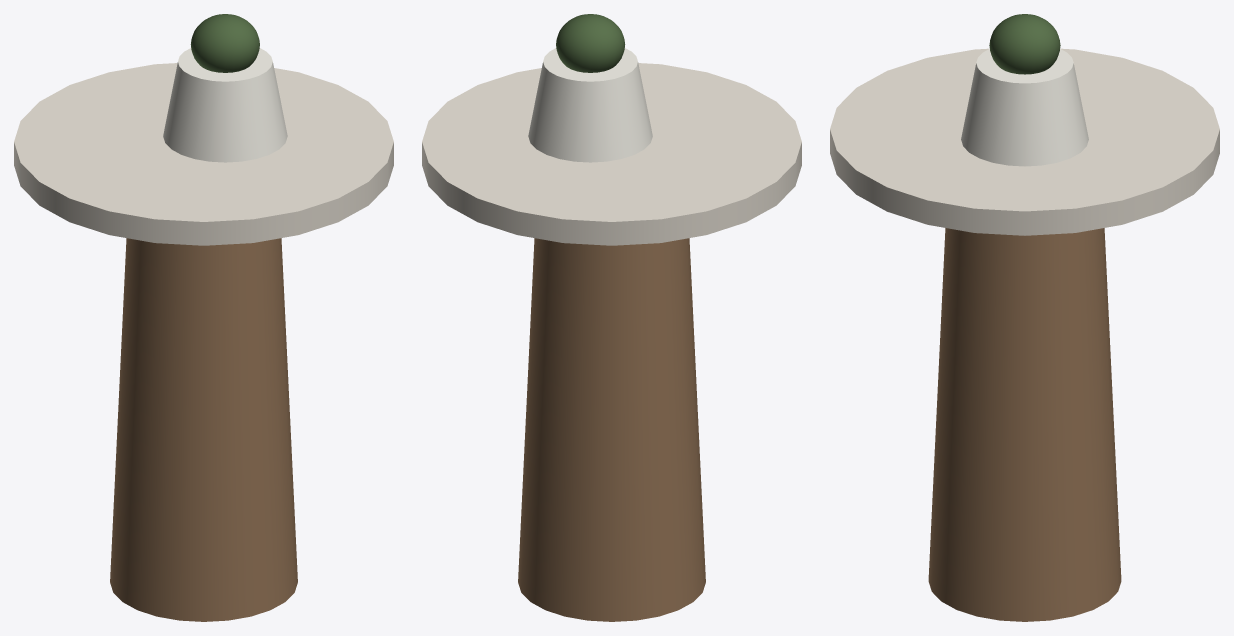
File: sideTable.glb
3 renders of one model, left to right at view 1: azimuth 30°, elevation 25°; view 2: azimuth 150°, elevation 25°; view 3: azimuth 270°, elevation 25°, orthographic. The views are drawn at different scales.
Visible parts, largest first — view 1: sideTable-part-2, sideTable-part-1, sideTable-part-3, sideTable-part-4; view 2: sideTable-part-2, sideTable-part-1, sideTable-part-3, sideTable-part-4; view 3: sideTable-part-2, sideTable-part-1, sideTable-part-3, sideTable-part-4.
Part boxes in pixels (x1,y1,x2,y2): sideTable-part-2: [110, 238, 297, 621]; sideTable-part-1: [14, 63, 393, 245]; sideTable-part-3: [163, 48, 287, 162]; sideTable-part-4: [190, 14, 259, 72]; sideTable-part-2: [518, 238, 705, 621]; sideTable-part-1: [422, 63, 801, 245]; sideTable-part-3: [528, 48, 652, 162]; sideTable-part-4: [556, 14, 625, 72]; sideTable-part-2: [928, 228, 1121, 621]; sideTable-part-1: [830, 48, 1219, 235]; sideTable-part-3: [961, 49, 1088, 166]; sideTable-part-4: [989, 14, 1060, 74].
Size of the model in its own units: 0.2 by 0.325 by 0.2.
